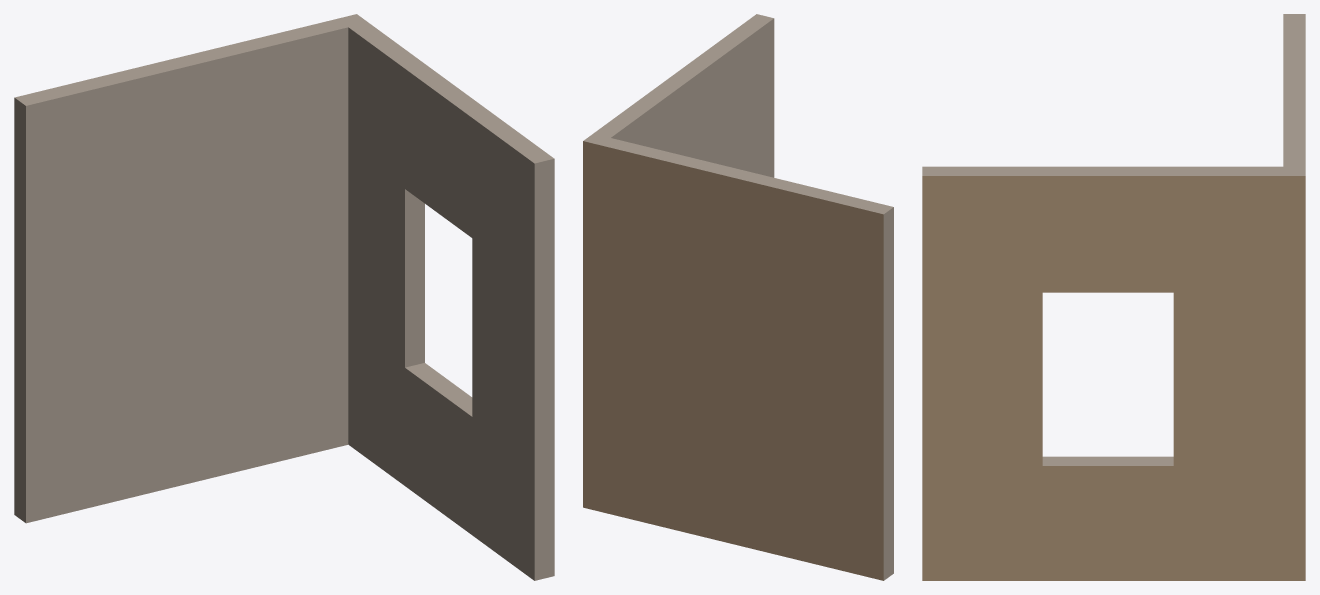
Rendered from Wall2_C4_08.fbx.
3 renders of one model, left to right at view 1: azimuth 30°, elevation 25°; view 2: azimuth 150°, elevation 25°; view 3: azimuth 270°, elevation 25°, orthographic. The views are drawn at different scales.
Parts seen in each view (by area): view 1: Wall2_C4_08; view 2: Wall2_C4_08; view 3: Wall2_C4_08.
Part boxes in pixels (x1,y1,x2,y2): Wall2_C4_08: (14, 14, 554, 580); Wall2_C4_08: (583, 14, 893, 580); Wall2_C4_08: (922, 14, 1305, 580).
Bounding box in the file's own units: 258 × 300 × 258.
